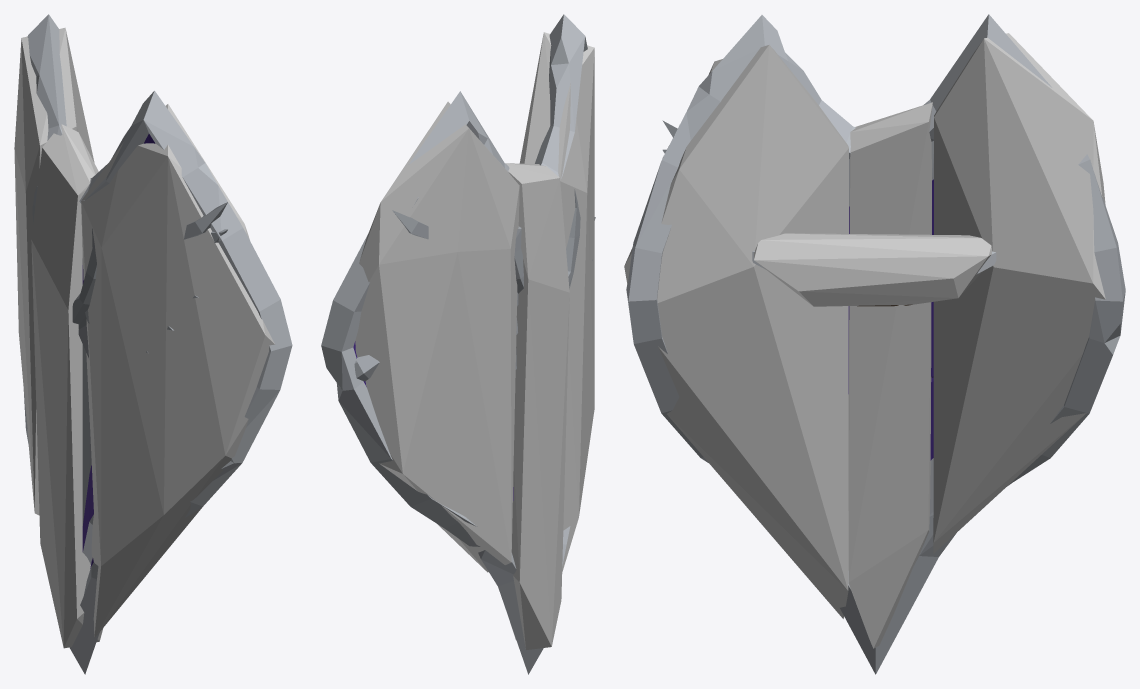
The model's file is SM_Wep_Shield_02.fbx.
3 views of the same model, side by side, from view 1: azimuth 30°, elevation 25°; view 2: azimuth 150°, elevation 25°; view 3: azimuth 270°, elevation 25° (orthographic). The views are drawn at different scales.
Parts seen in each view (by area): view 1: SM_Wep_Shield_02_ConvexHulls, SM_Wep_Shield_02; view 2: SM_Wep_Shield_02_ConvexHulls, SM_Wep_Shield_02; view 3: SM_Wep_Shield_02_ConvexHulls, SM_Wep_Shield_02.
Boxes of the visible parts, x1,y1,x2,y2 form: SM_Wep_Shield_02_ConvexHulls: [14, 27, 274, 648]; SM_Wep_Shield_02: [23, 14, 292, 674]; SM_Wep_Shield_02_ConvexHulls: [355, 32, 594, 649]; SM_Wep_Shield_02: [321, 14, 595, 674]; SM_Wep_Shield_02_ConvexHulls: [624, 33, 1105, 648]; SM_Wep_Shield_02: [626, 14, 1125, 674].
Bounding box in the file's own units: 19.84 × 65.24 × 96.08.
2 materials, 1 textured.
